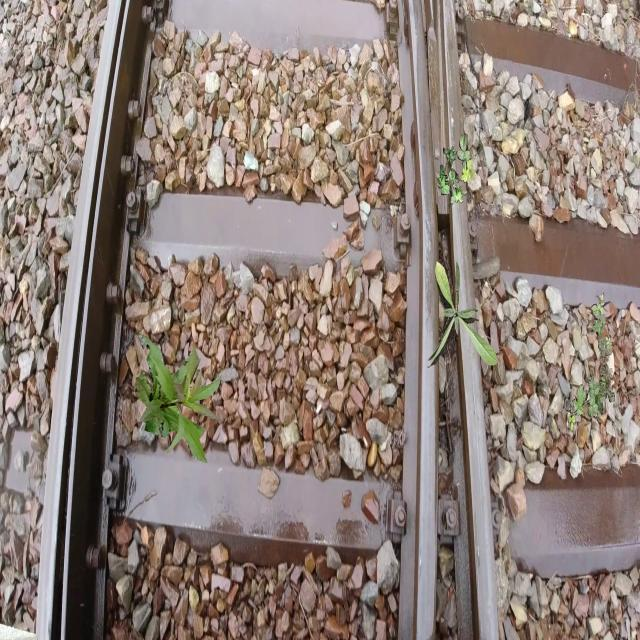Plant: (135, 334, 224, 464), (426, 260, 498, 368), (567, 293, 616, 431), (438, 134, 476, 208)
